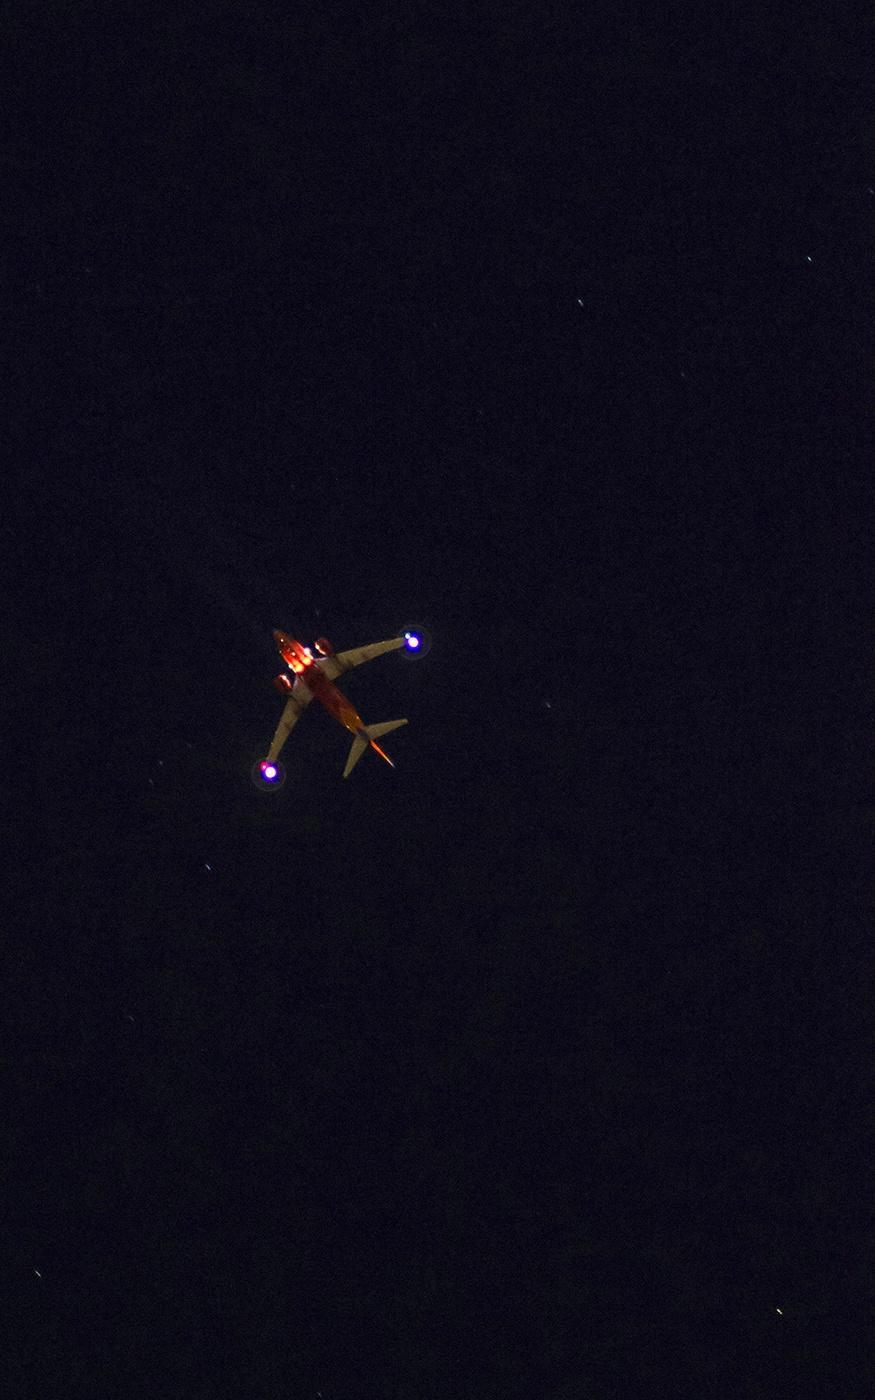Plane: (252, 574, 467, 856)
